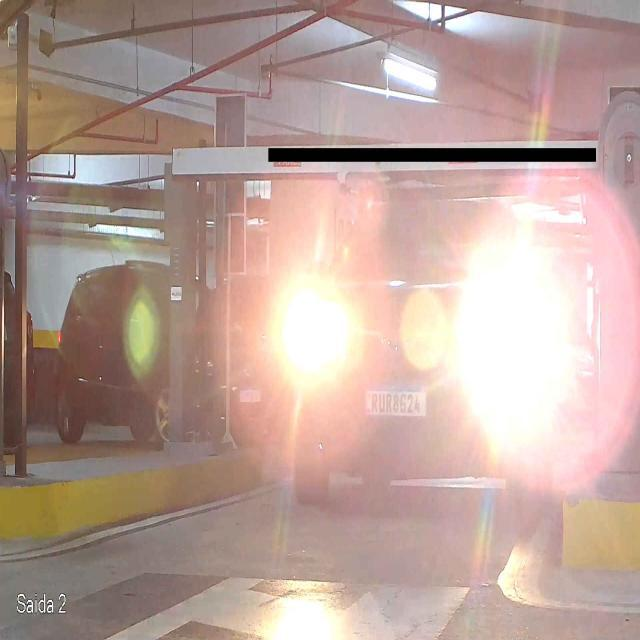mercosul_plate: (359, 380, 428, 417)
